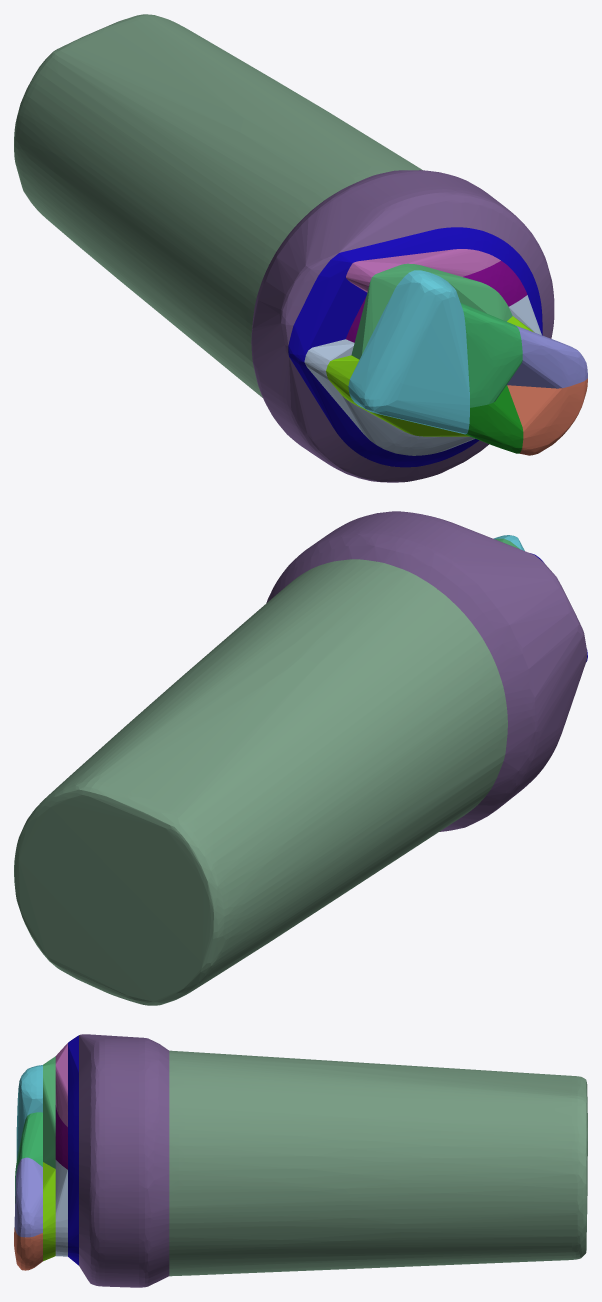
The model's file is coacd_collision.obj.
3 views of the same model, one above another, from view 1: azimuth 30°, elevation 25°; view 2: azimuth 150°, elevation 25°; view 3: azimuth 270°, elevation 25° (orthographic). The views are drawn at different scales.
Parts seen in each view (by area): view 1: geometry_0, geometry_1, geometry_2, geometry_5, geometry_6, geometry_10, geometry_3, geometry_9, geometry_12, geometry_7, geometry_8, geometry_4 (+1 smaller); view 2: geometry_0, geometry_1; view 3: geometry_0, geometry_1, geometry_5, geometry_12, geometry_2, geometry_3, geometry_4, geometry_6, geometry_10, geometry_9, geometry_7, geometry_11.
Part boxes in pixels (x1=…): geometry_0: x1=14, y1=14, x2=422, y2=397; geometry_1: x1=251, y1=170, x2=554, y2=482; geometry_2: x1=348, y1=270, x2=469, y2=434; geometry_5: x1=288, y1=227, x2=542, y2=467; geometry_6: x1=304, y1=295, x2=541, y2=455; geometry_10: x1=460, y1=303, x2=522, y2=407; geometry_3: x1=351, y1=263, x2=512, y2=359; geometry_9: x1=507, y1=378, x2=587, y2=455; geometry_12: x1=507, y1=325, x2=587, y2=388; geometry_7: x1=346, y1=249, x2=500, y2=292; geometry_8: x1=465, y1=385, x2=523, y2=453; geometry_4: x1=326, y1=316, x2=534, y2=436; geometry_0: x1=14, y1=559, x2=507, y2=1005; geometry_1: x1=266, y1=511, x2=586, y2=831; geometry_0: x1=169, y1=1050, x2=587, y2=1276; geometry_1: x1=79, y1=1034, x2=169, y2=1287; geometry_5: x1=68, y1=1035, x2=78, y2=1265; geometry_12: x1=14, y1=1157, x2=42, y2=1237; geometry_2: x1=16, y1=1065, x2=42, y2=1160; geometry_3: x1=43, y1=1056, x2=55, y2=1168; geometry_4: x1=43, y1=1162, x2=55, y2=1261; geometry_6: x1=55, y1=1160, x2=67, y2=1256; geometry_10: x1=15, y1=1112, x2=42, y2=1195; geometry_9: x1=14, y1=1227, x2=42, y2=1270; geometry_7: x1=55, y1=1043, x2=67, y2=1126; geometry_11: x1=55, y1=1105, x2=67, y2=1169.
Bounding box in the file's own units: 99.74 × 96.72 × 222.
